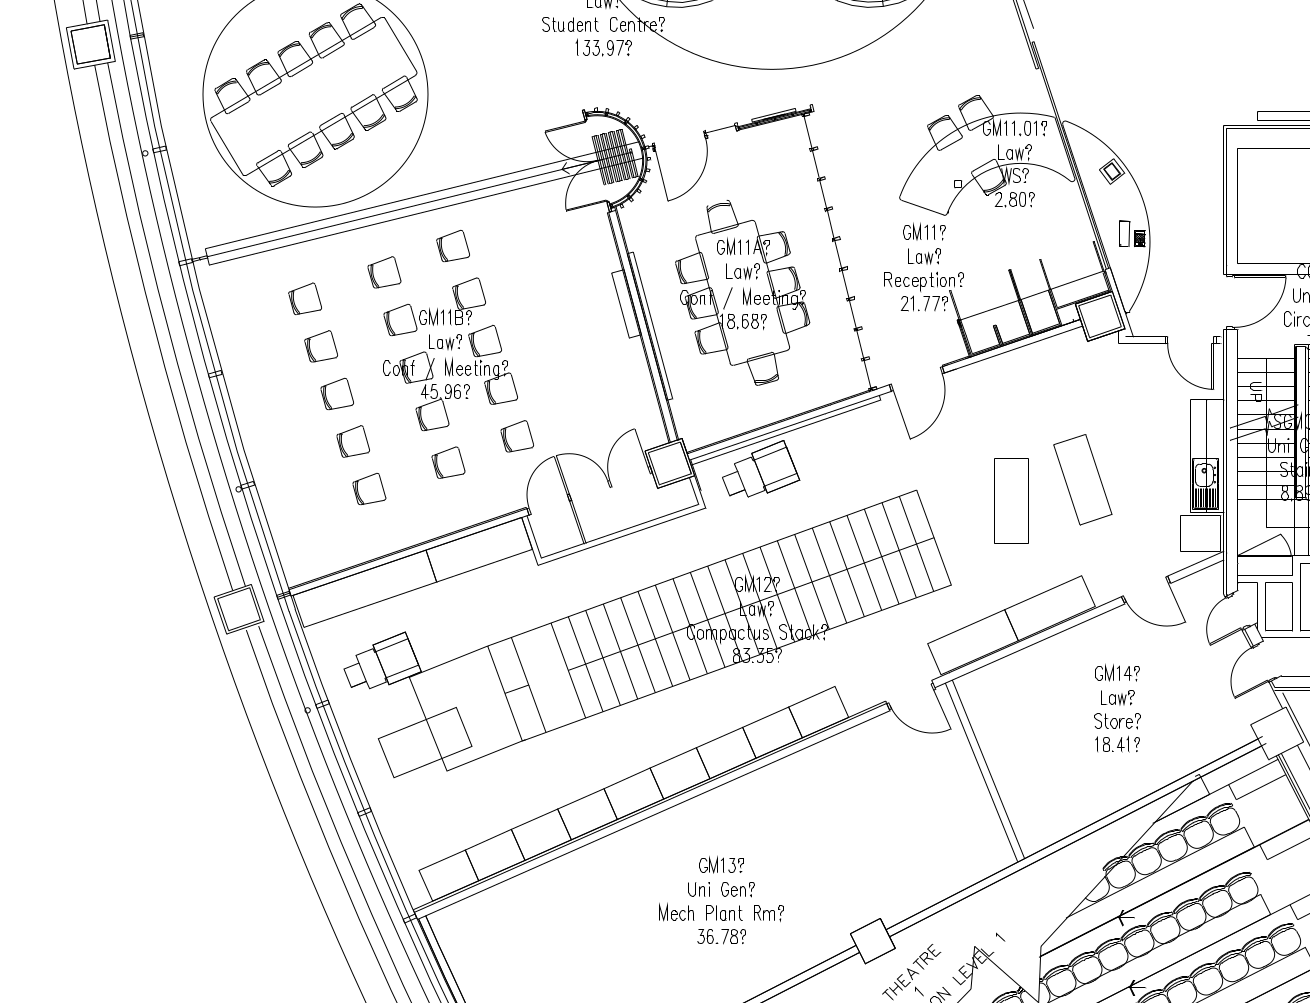door: (552, 417, 651, 513), (887, 356, 949, 454), (650, 125, 709, 208), (882, 683, 953, 744), (1120, 576, 1190, 637), (1224, 269, 1288, 334), (1155, 327, 1219, 392), (515, 455, 570, 520), (1196, 593, 1239, 653), (1224, 644, 1267, 704)
